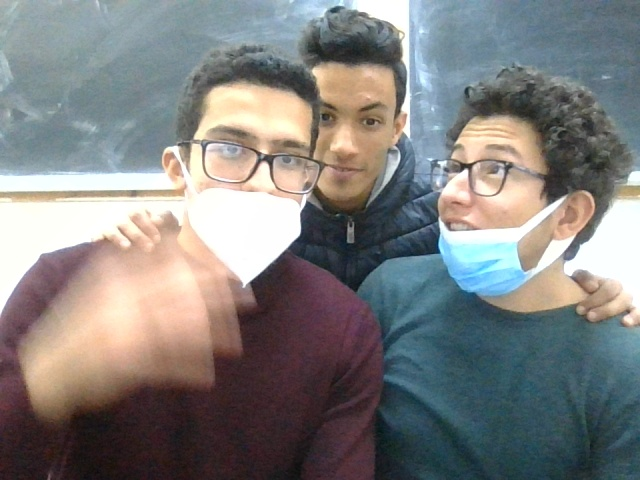mask_weared_incorrect: (434, 66, 599, 288), (184, 47, 315, 278)
without_mask: (312, 10, 425, 211)
